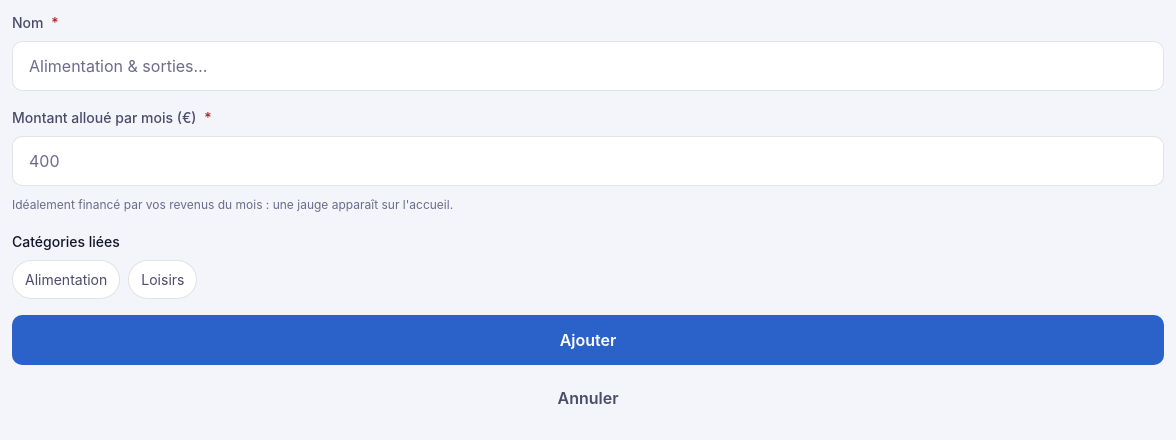
Test: EnvelopeForm — création › refuse un montant vide ou invalide sans appeler l'API
In the field with id "envelope-name": point(588, 66) [12,41,1164,91], type "Vie quotidienne"
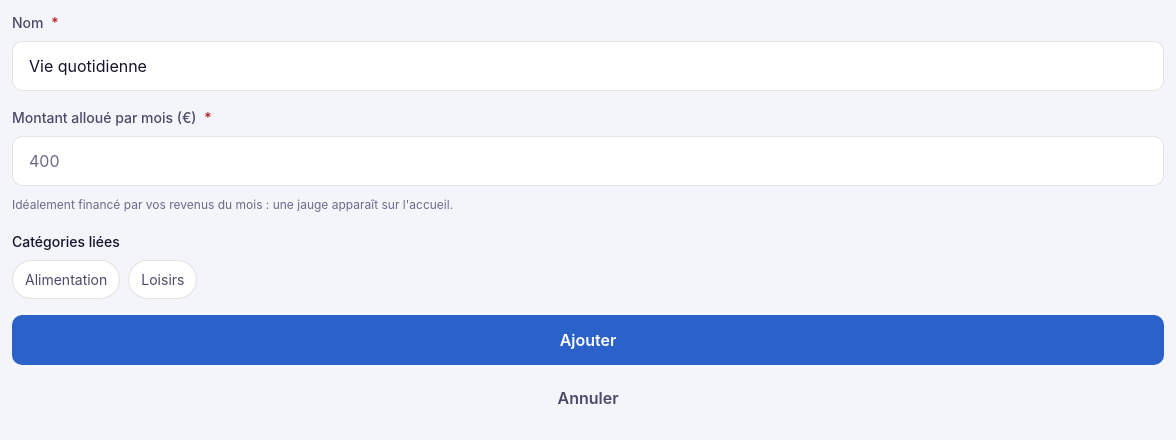
Submit the form
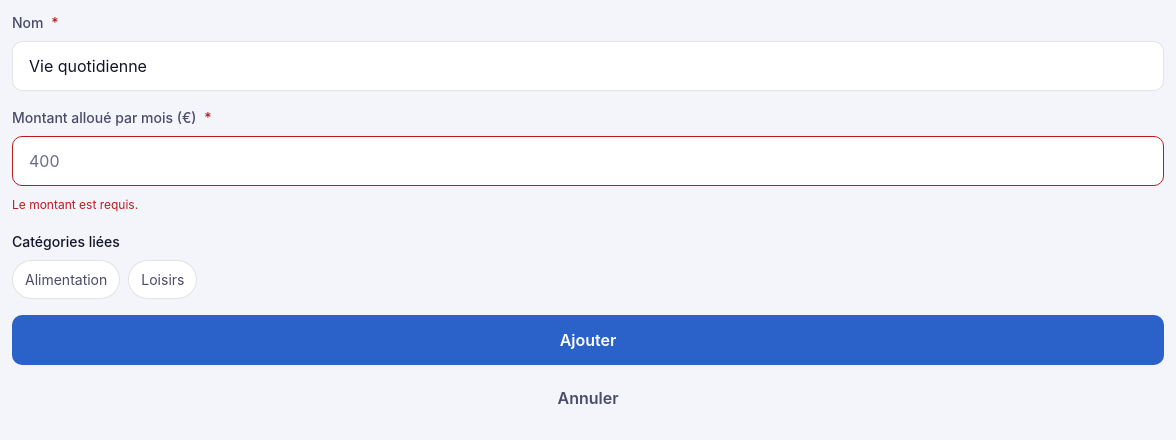
Expected: the form shows "Le montant est requis.", [12,197,138,212]
